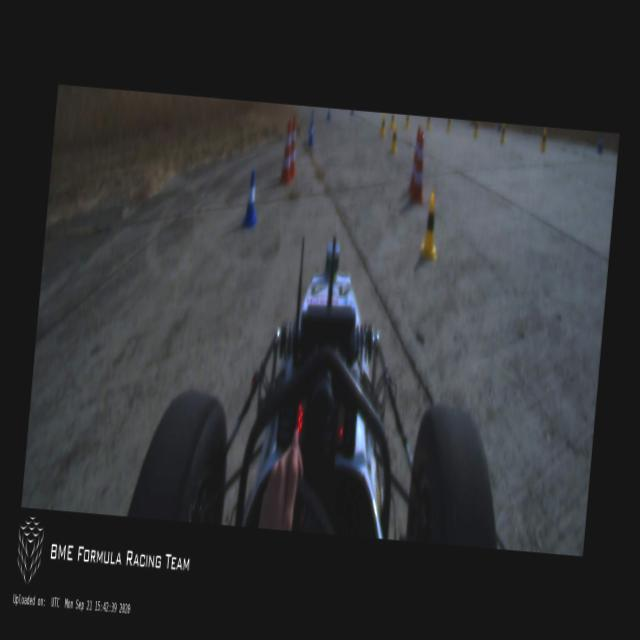blue_cone: (240, 168, 261, 231), (305, 109, 316, 147), (325, 108, 331, 121), (349, 110, 354, 116)
large_orange_cone: (408, 129, 430, 204), (278, 117, 296, 187), (286, 116, 301, 180), (407, 124, 421, 192)
yellow_cone: (418, 192, 441, 262), (389, 126, 399, 154), (538, 128, 548, 152), (379, 112, 387, 137), (499, 122, 506, 144), (473, 120, 479, 138), (389, 114, 394, 130), (404, 115, 410, 128), (446, 118, 450, 131), (426, 116, 430, 128)
